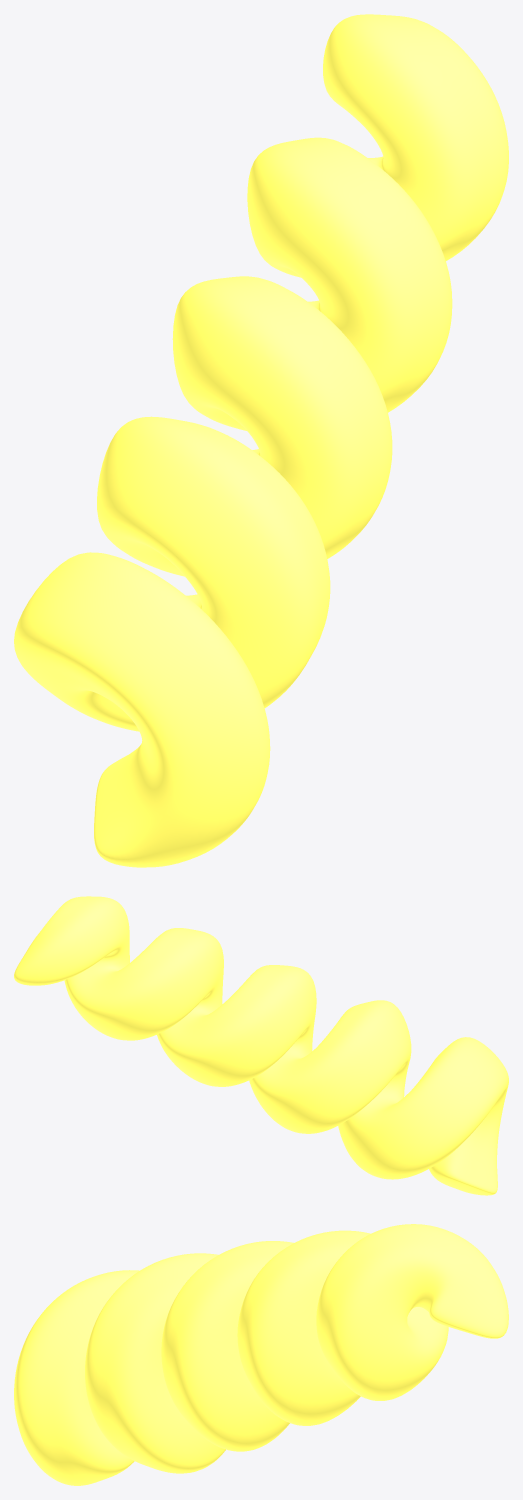
File: Fusili.006.gltf
3 views of the same model, one above another, from view 1: azimuth 30°, elevation 25°; view 2: azimuth 150°, elevation 25°; view 3: azimuth 270°, elevation 25° (orthographic). The views are drawn at different scales.
Parts seen in each view (by area): view 1: Fusili.006; view 2: Fusili.006; view 3: Fusili.006.
Part boxes in pixels (x1,y1,x2,y2): Fusili.006: (14, 14, 508, 867); Fusili.006: (14, 896, 508, 1195); Fusili.006: (14, 1224, 508, 1485).
Bounding box in the file's own units: 2.28 × 2 × 2.16.
